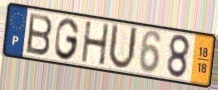6: (137, 28, 163, 76)
8: (165, 34, 191, 80)
B: (25, 11, 54, 57)
G: (53, 17, 81, 62)
H: (80, 20, 111, 67)
U: (106, 21, 139, 72)
